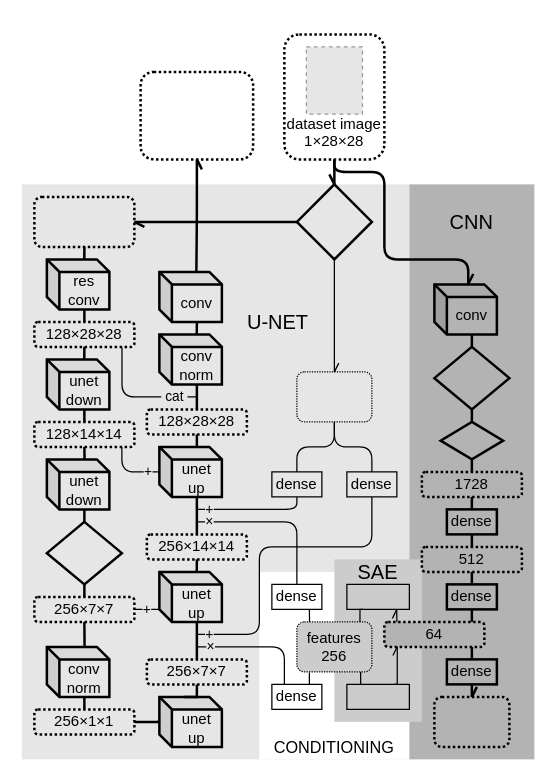
The diagram is 555 pixels wide and 780 high, and some of its shapes have lost their labels. Grey dashed boxes stand in for pictures. Here are the shapes that lost their labels. From the top down, the centre of each, then its label:
At point (196, 115): "dataset image with generated noise 1×28×28".
At point (83, 221): "noisy image 1×28×28".
At point (333, 221): "make noisy".
At point (334, 396): "time step 1".
At point (471, 377): "max pool".
At point (471, 440): "flat".
At point (83, 552): "avg pool".
At point (377, 596): "encoder".
At point (377, 696): "decoder".
At point (471, 721): "prediction 10".
